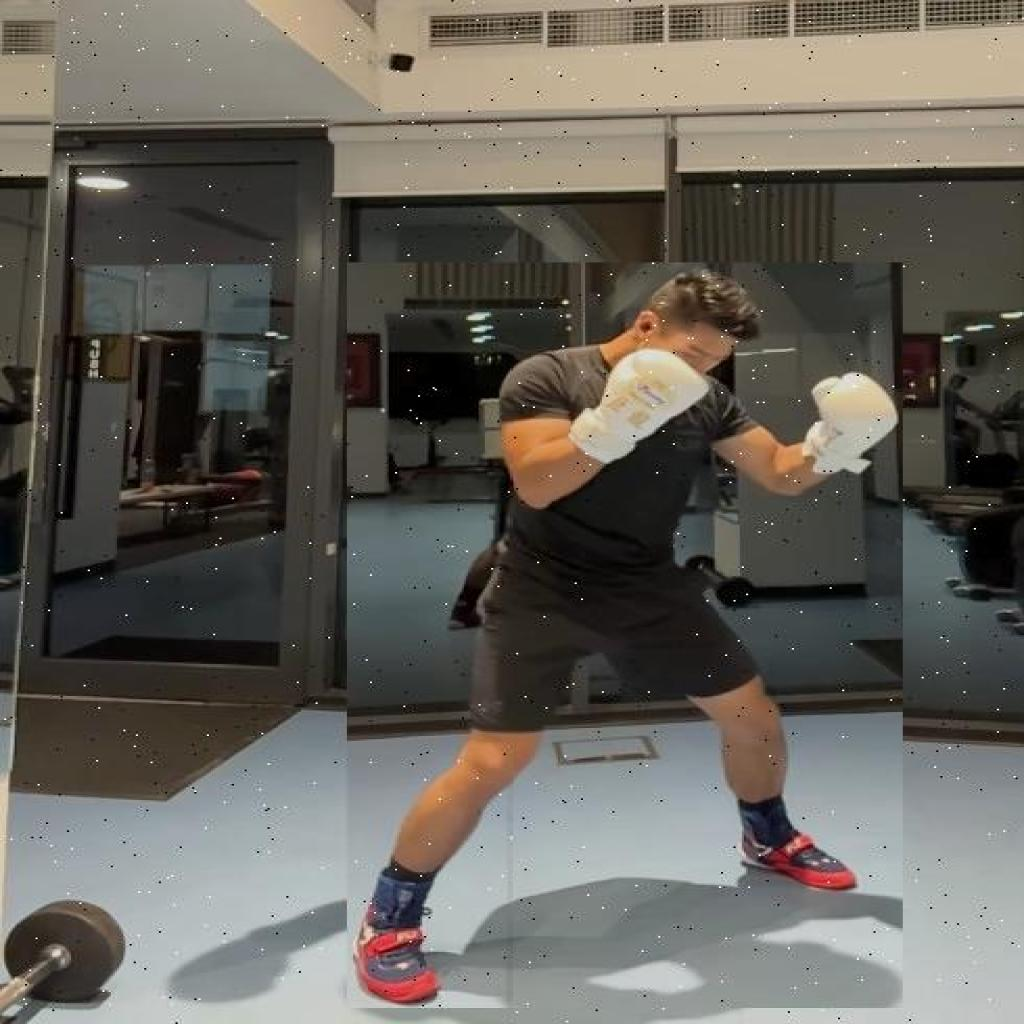uppercut: (347, 262, 903, 1008)
